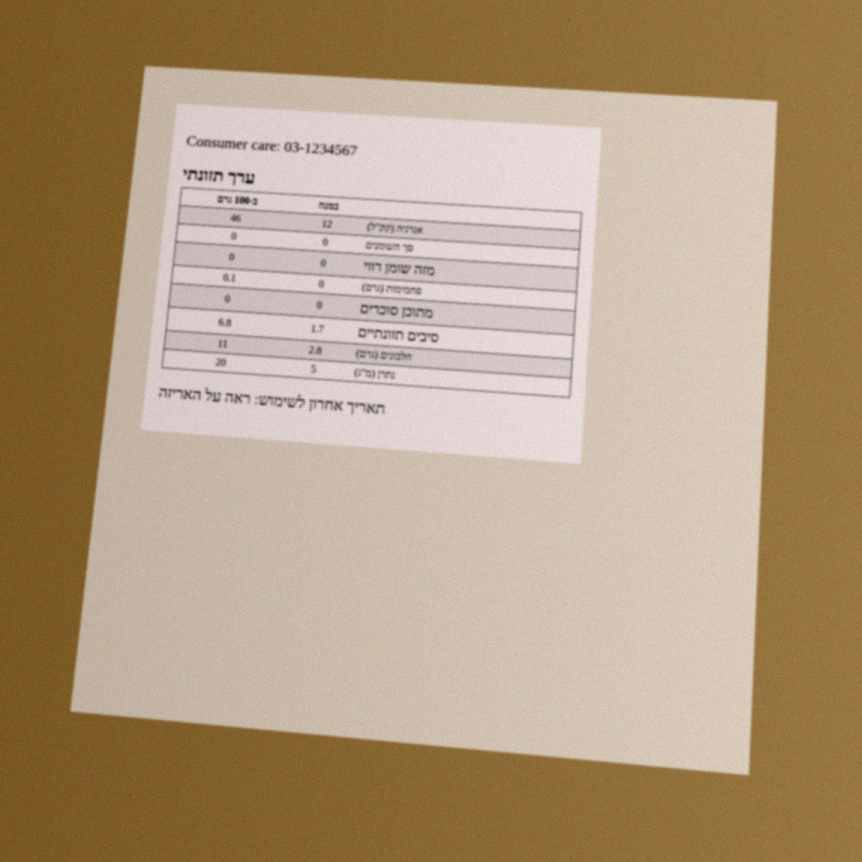carbs: (221, 271, 238, 285)
energy: (229, 211, 242, 225)
fat: (229, 229, 238, 243)
protein: (216, 336, 229, 351)
